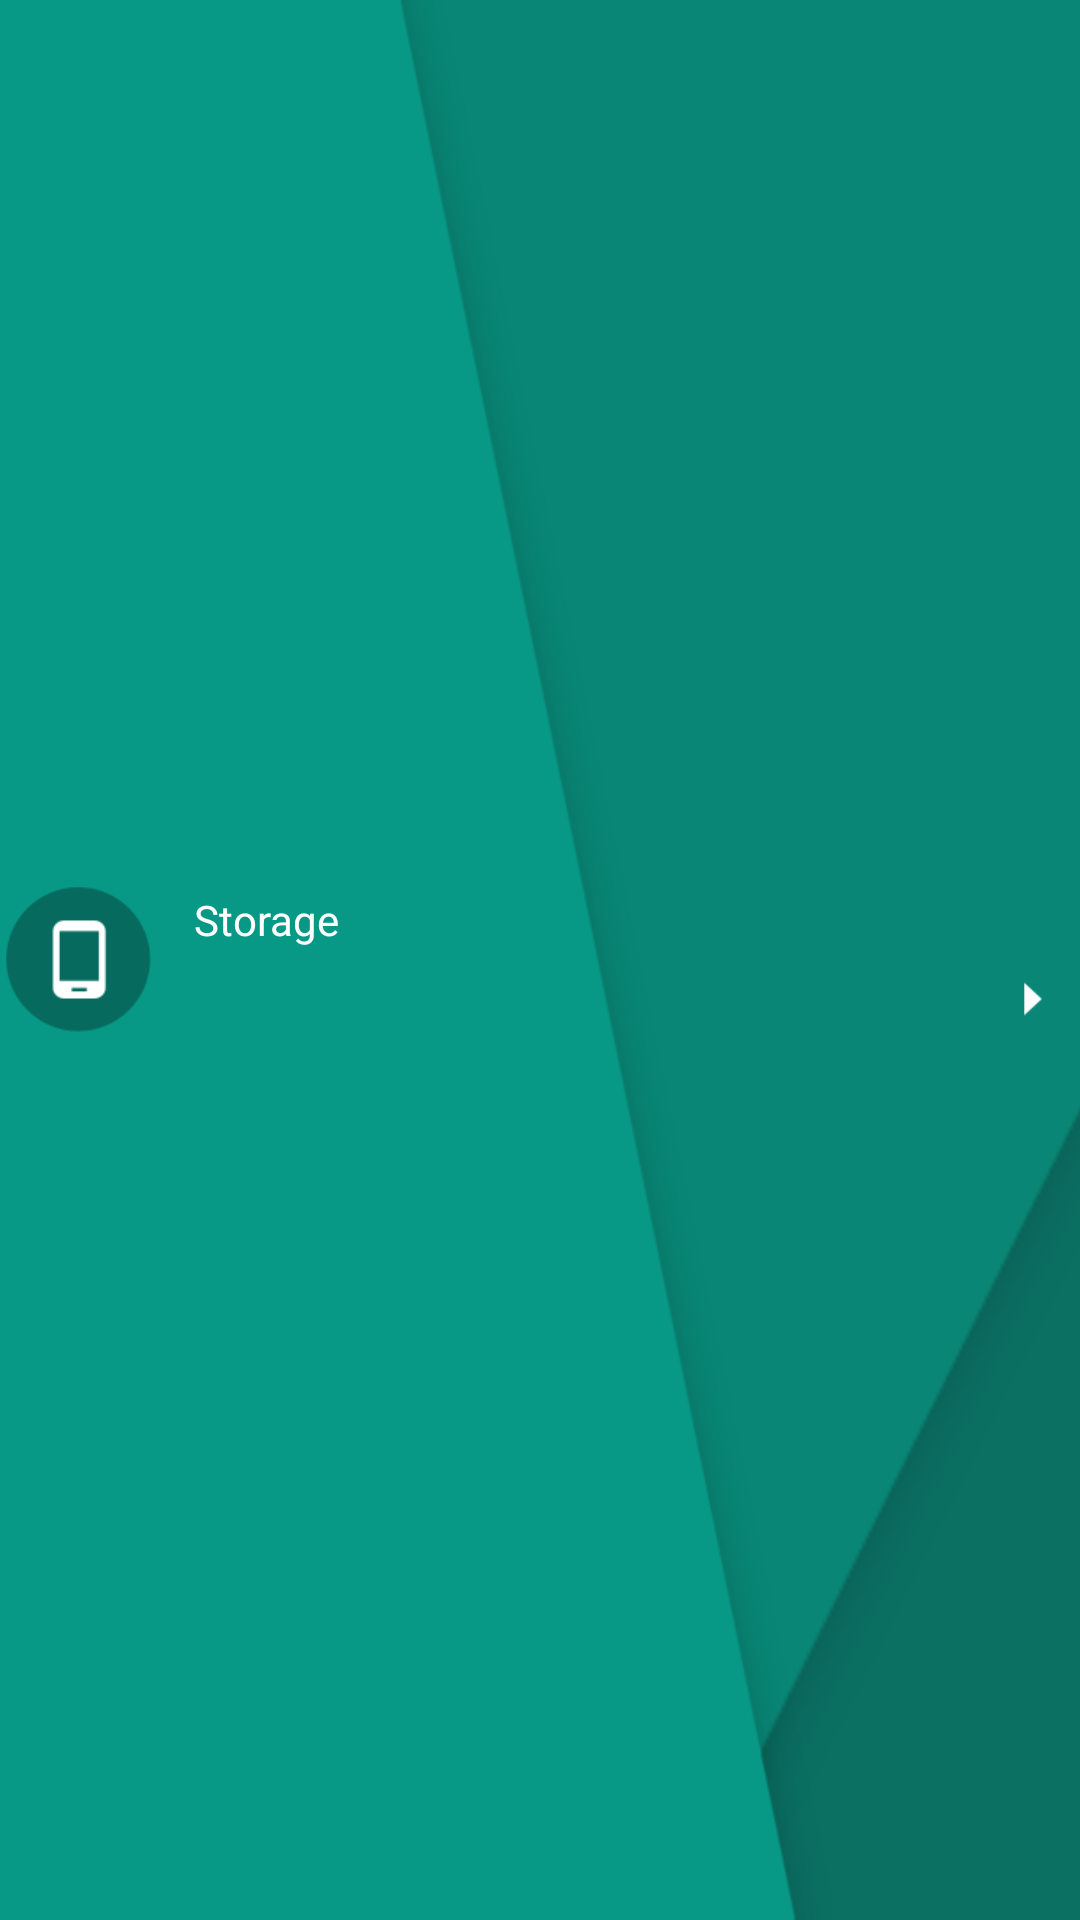

Icons on this 1080 x 1920 Android screen, each with its box as (x1,y1,x2,y2):
triangle: (1024,982,1042,1016)
